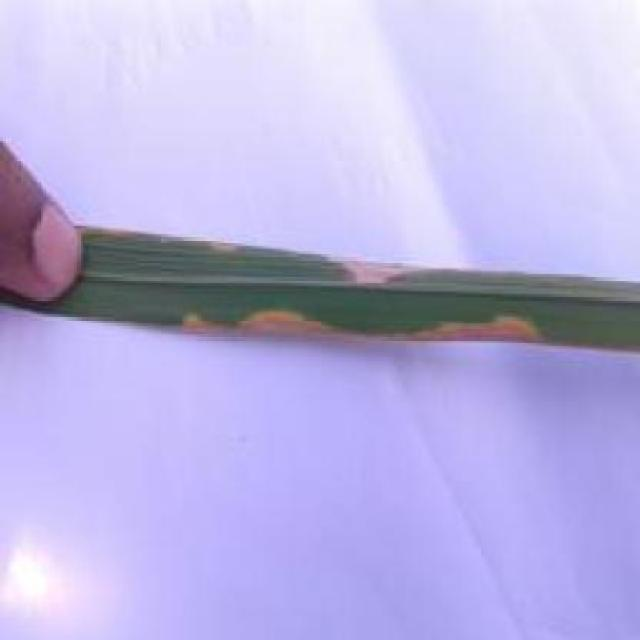Brown_Spot: (124, 243, 634, 379), (0, 226, 140, 379)
